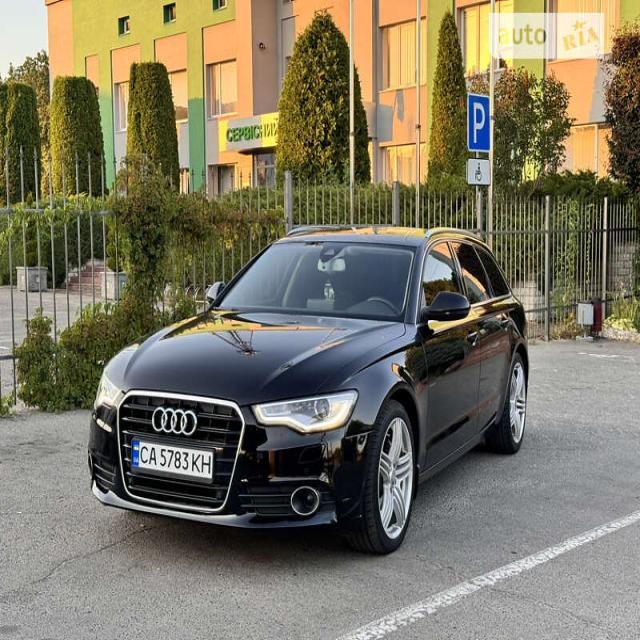plate: (129, 435, 216, 481)
